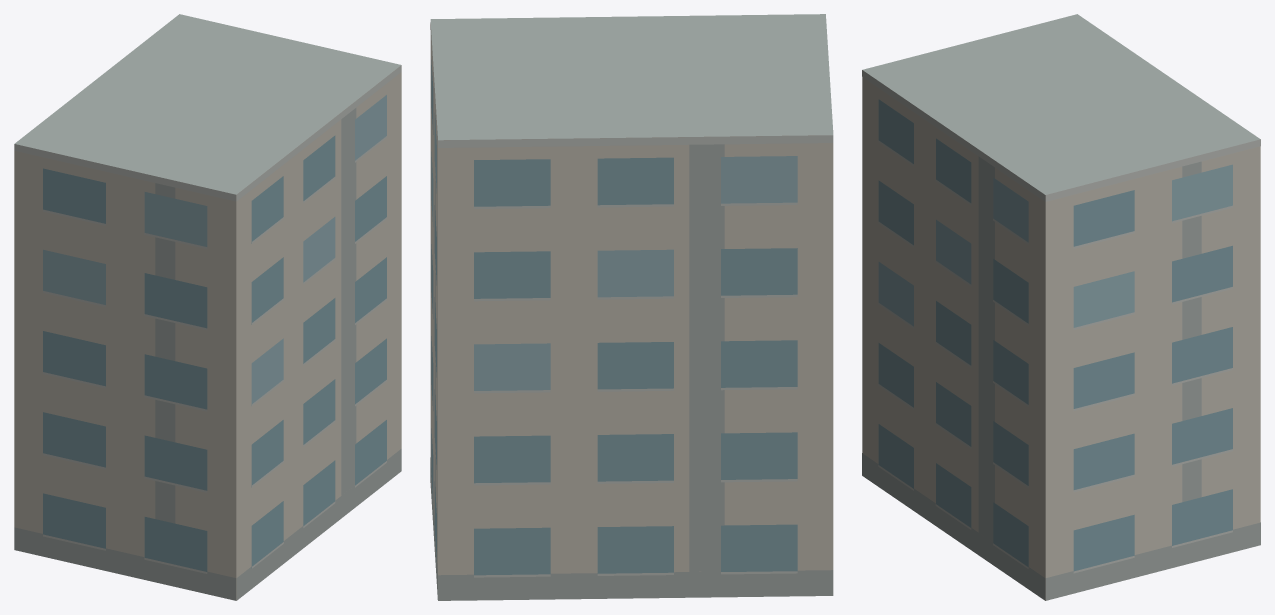
Rendered from survey-upis-32503862.glb.
3 renders of one model, left to right at view 1: azimuth 30°, elevation 25°; view 2: azimuth 150°, elevation 25°; view 3: azimuth 270°, elevation 25°, orthographic. The views are drawn at different scales.
Parts seen in each view (by area): view 1: survey-upis-32503862.tmp; view 2: survey-upis-32503862.tmp; view 3: survey-upis-32503862.tmp.
Boxes of the visible parts, x1,y1,x2,y2 form: survey-upis-32503862.tmp: (14,14,401,600); survey-upis-32503862.tmp: (430,14,833,600); survey-upis-32503862.tmp: (862,14,1260,600).
Bounding box in the file's own units: 13.74 × 14.35 × 12.78.
